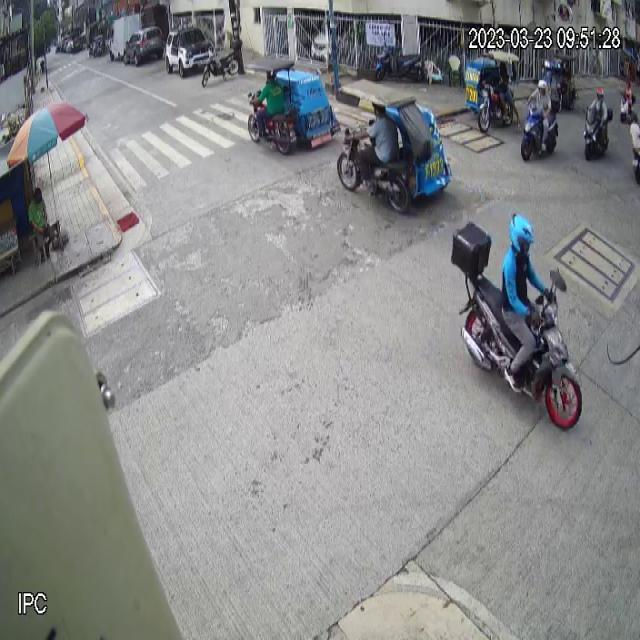Motorcycle: (449, 220, 586, 435), (520, 96, 561, 162)
Tricycle: (335, 78, 454, 214), (245, 52, 342, 156), (464, 50, 520, 133)
